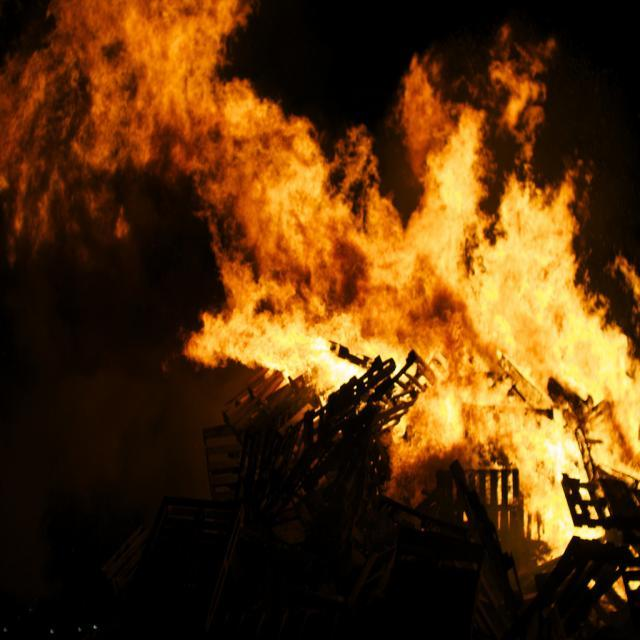Fire: (512, 218, 572, 370), (132, 0, 203, 125), (243, 144, 310, 250), (430, 158, 470, 288), (245, 317, 332, 362)
